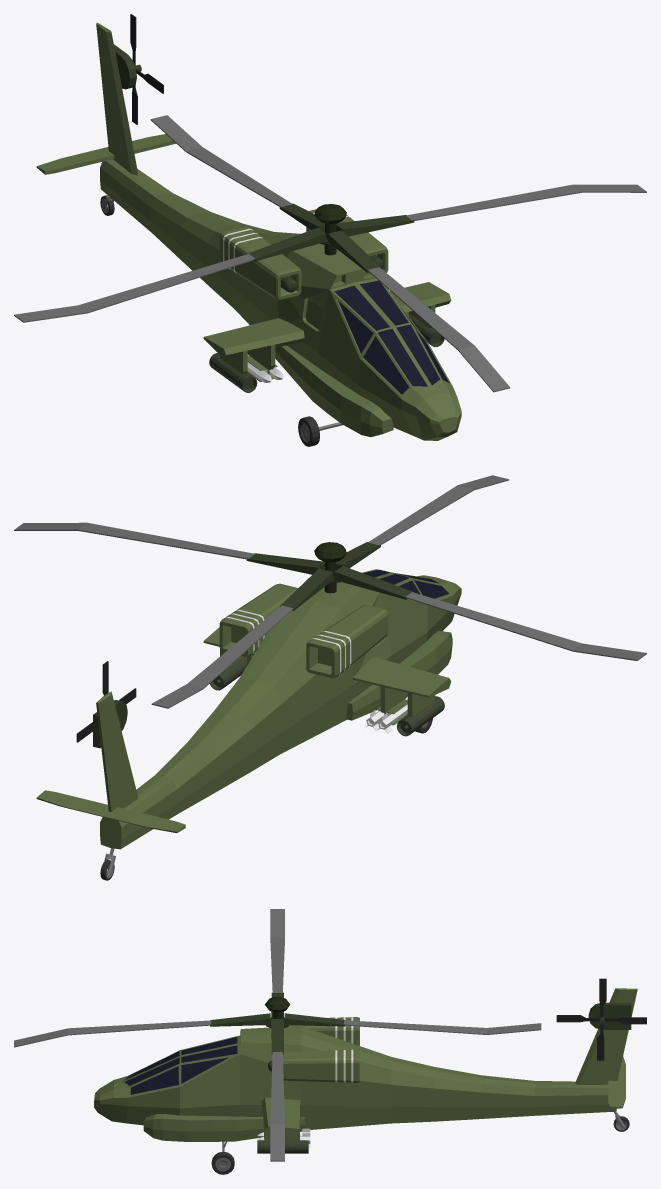
File: гендер вертолет леха (1).fbx
3 views of the same model, one above another, from view 1: azimuth 30°, elevation 25°; view 2: azimuth 150°, elevation 25°; view 3: azimuth 270°, elevation 25° (orthographic). The views are drawn at different scales.
Visible parts, largest first — view 1: Cube.001, Cube.008, Circle.011; view 2: Cube.001, Cube.008; view 3: Cube.001, Cube.008, Circle.011.
Part boxes in pixels (x1,y1,x2,y2): Cube.001: (36,22,461,446); Cube.008: (14,115,646,392); Circle.011: (130,14,163,124); Cube.001: (36,569,461,880); Cube.008: (14,475,646,708); Cube.001: (94,988,637,1174); Cube.008: (14,909,541,1161); Circle.011: (556,978,646,1060).
Bounding box in the file's own units: 1848 × 657 × 2106.
